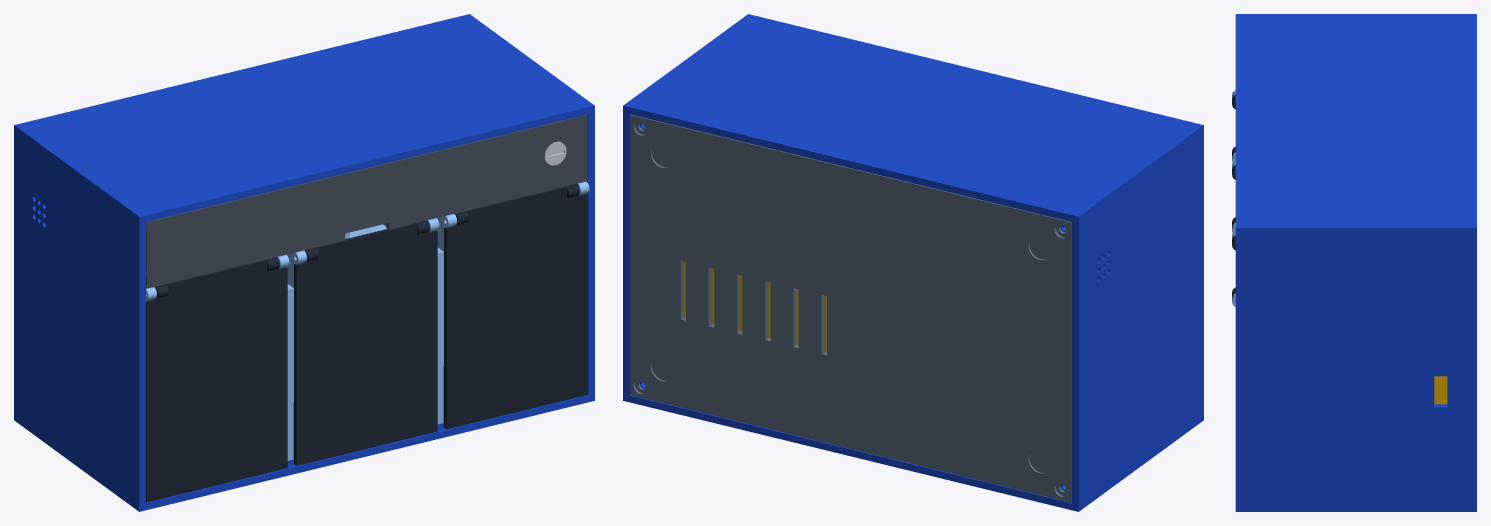
The model's file is montagem.obj.
3 views of the same model, side by side, from view 1: azimuth 30°, elevation 25°; view 2: azimuth 150°, elevation 25°; view 3: azimuth 270°, elevation 25° (orthographic). The views are drawn at different scales.
Parts seen in each view (by area): view 1: geometry_0, geometry_8, geometry_11, geometry_5, geometry_3, geometry_1; view 2: geometry_2, geometry_0, geometry_15; view 3: geometry_0, geometry_22.
Part boxes in pixels (x1=…): geometry_0: x1=14, y1=14, x2=594, y2=511; geometry_8: x1=294, y1=220, x2=437, y2=465; geometry_11: x1=444, y1=184, x2=587, y2=429; geometry_5: x1=146, y1=257, x2=287, y2=502; geometry_3: x1=146, y1=114, x2=587, y2=288; geometry_1: x1=146, y1=181, x2=589, y2=460; geometry_2: x1=630, y1=114, x2=1071, y2=502; geometry_0: x1=623, y1=14, x2=1203, y2=511; geometry_15: x1=683, y1=261, x2=826, y2=351; geometry_0: x1=1235, y1=14, x2=1476, y2=511; geometry_22: x1=1434, y1=376, x2=1446, y2=403.
Bounding box in the file's own units: 210 × 130 × 102.
